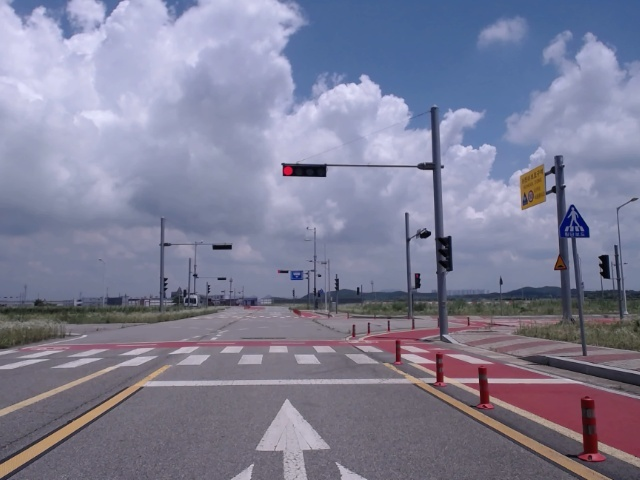red_4: (283, 164, 326, 177)
